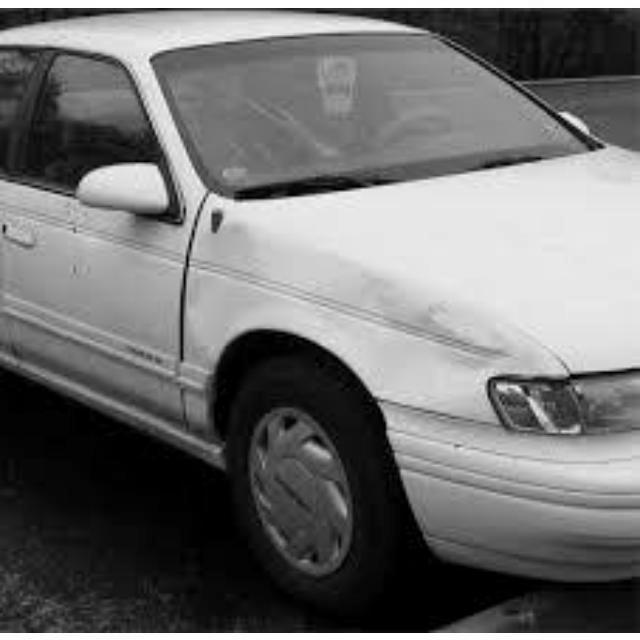fender-dent: (215, 225, 488, 388)
